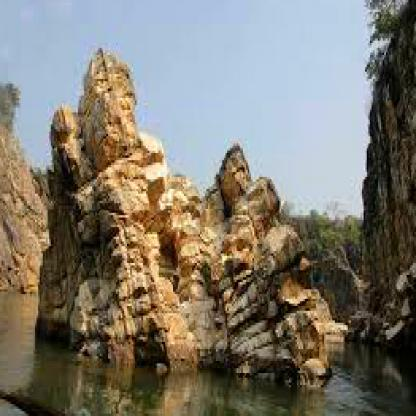Metamorphic_Marble: (105, 143, 173, 318), (76, 38, 142, 163), (251, 302, 327, 376), (224, 215, 267, 294), (221, 141, 252, 201)
